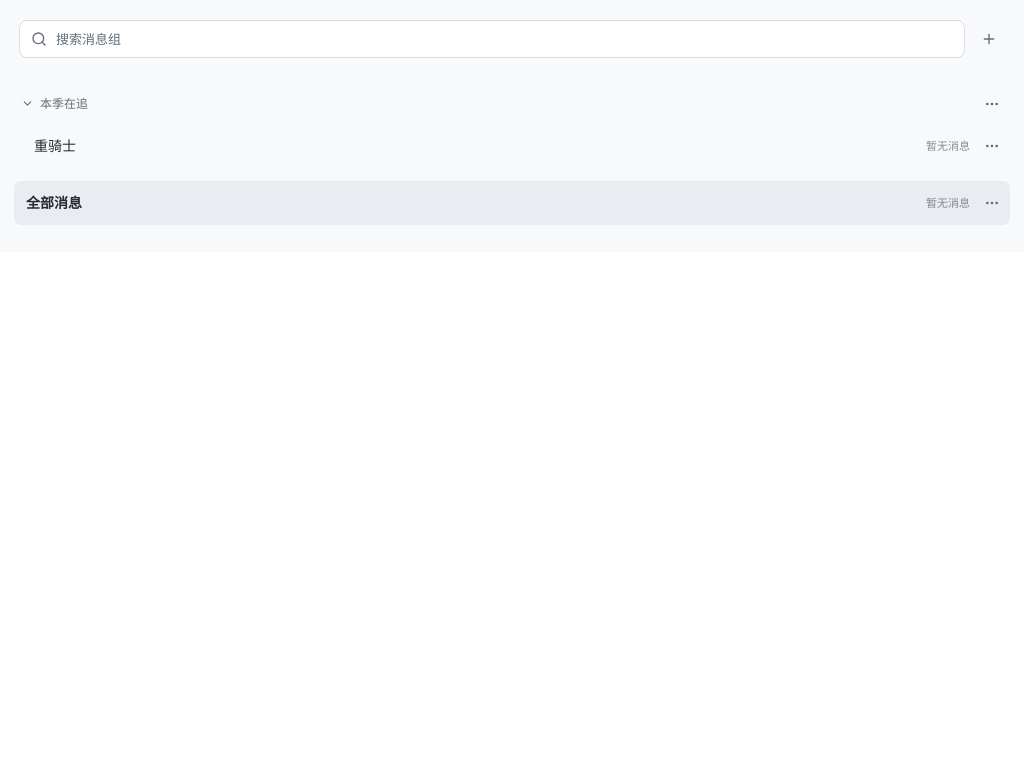
Test: FilterPanel › preserves a pending move error when its row changes directory optimistically
Click the button named "消息组 重骑士的操作" at (992, 146), box [978,132,1006,160]
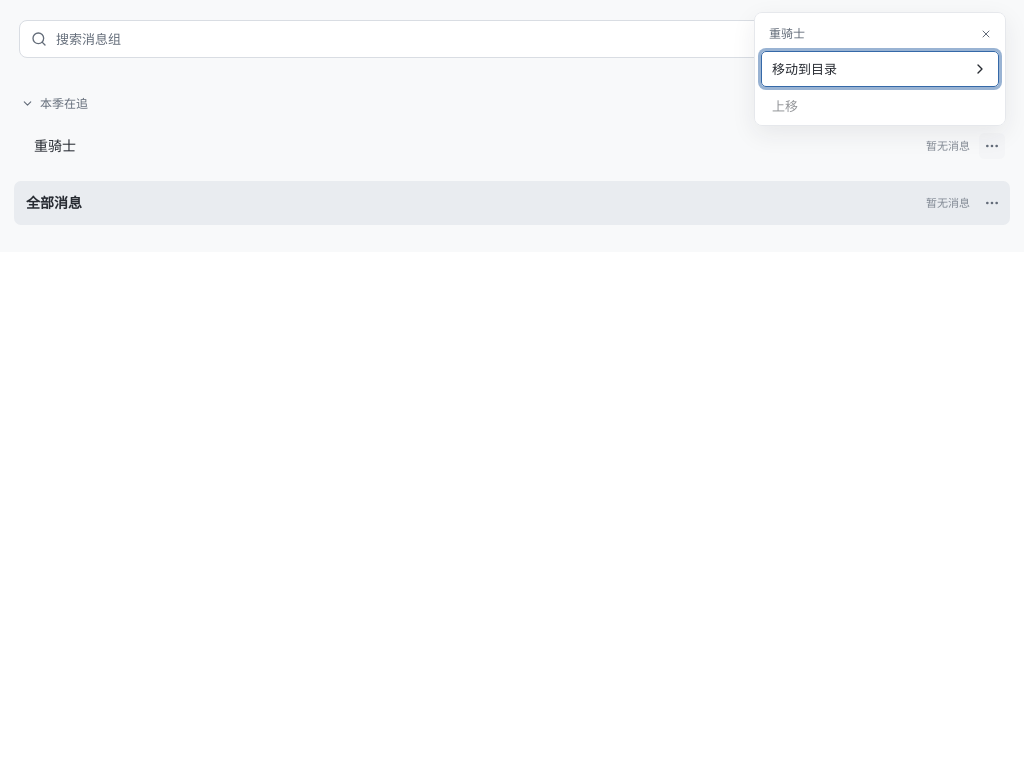
Click the button "移动到目录" at (880, 69), box [761,51,999,87]
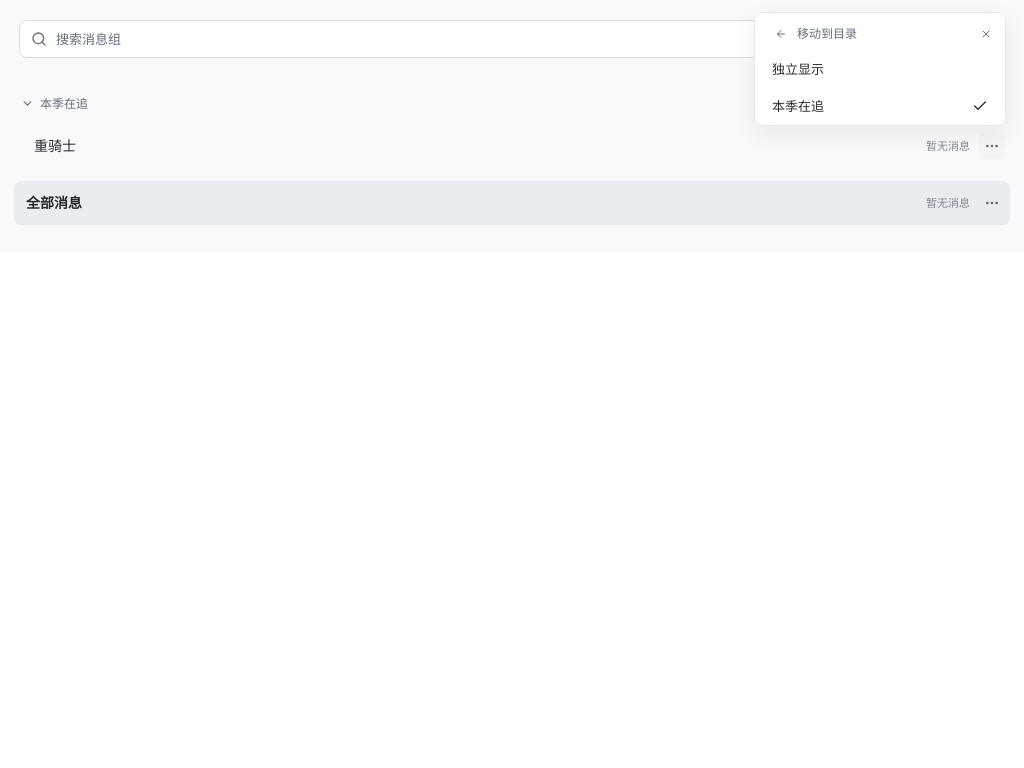
Click the button "独立显示" at (880, 69), box [761,51,999,87]
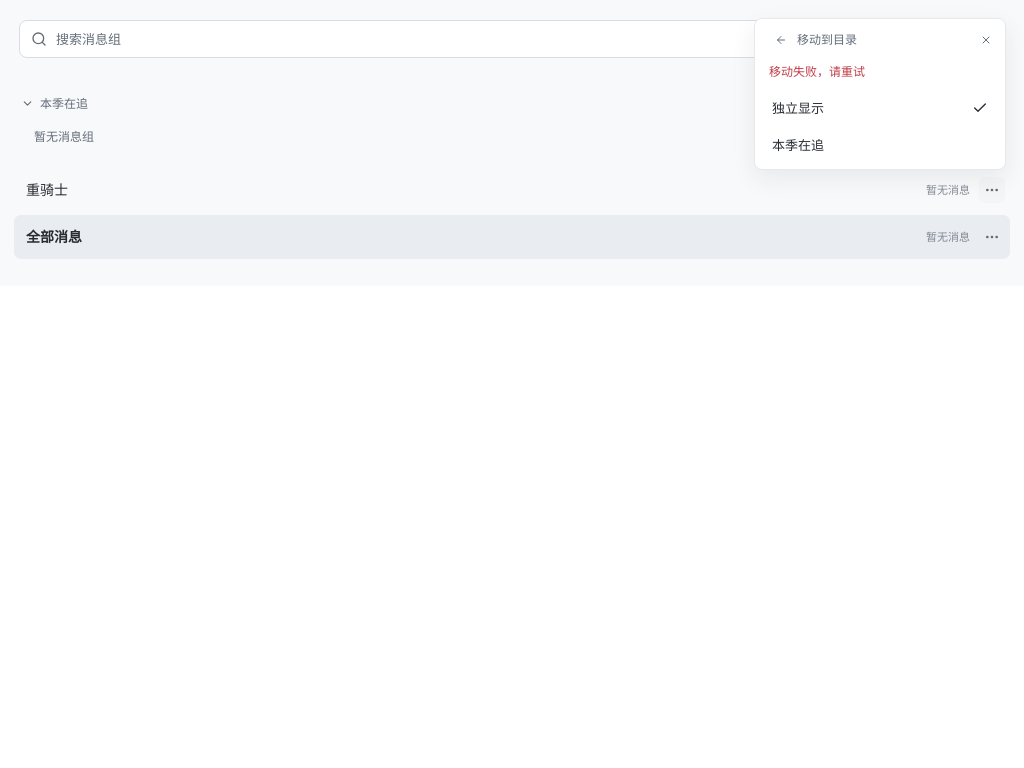
Result: the message reads "移动失败，请重试" at [769,63,865,80]
